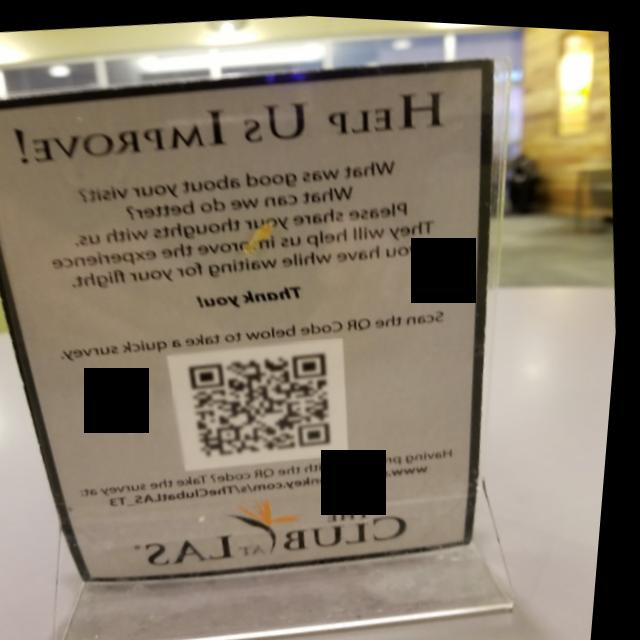QR_CODE: (169, 327, 359, 469)
